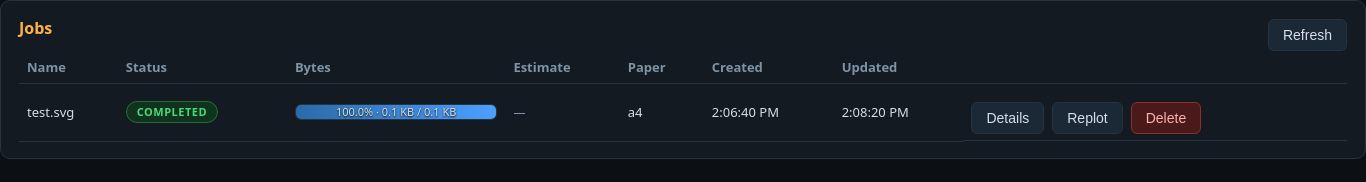
Test case: JobsPage › delete asks for confirmation and removes on confirm
Step 1. Click the button "Delete" → (1166, 118), box [1131, 102, 1201, 134]
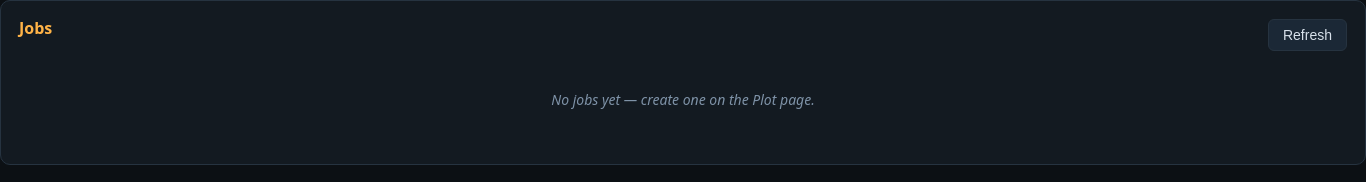
Expected: the text "No jobs yet — create one on the Plot page." is shown, [551, 90, 815, 109]
